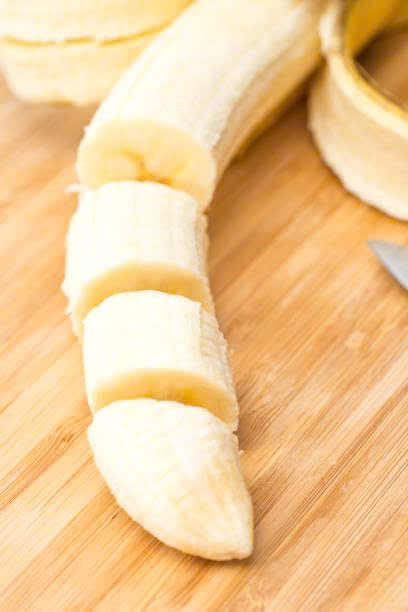banana: (79, 2, 326, 184), (74, 402, 289, 581), (73, 292, 260, 409), (57, 177, 220, 294)
